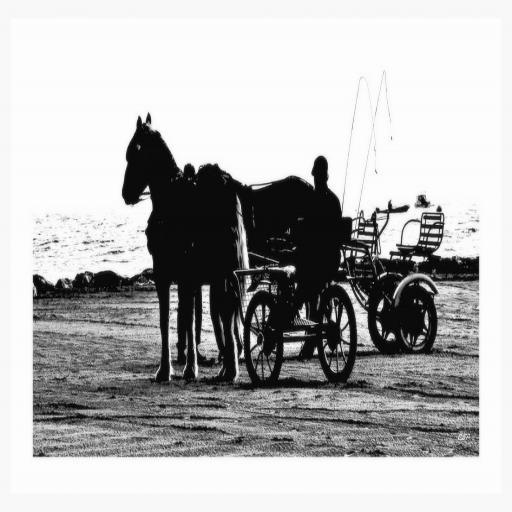horse: (120, 110, 250, 384), (196, 162, 315, 360)
